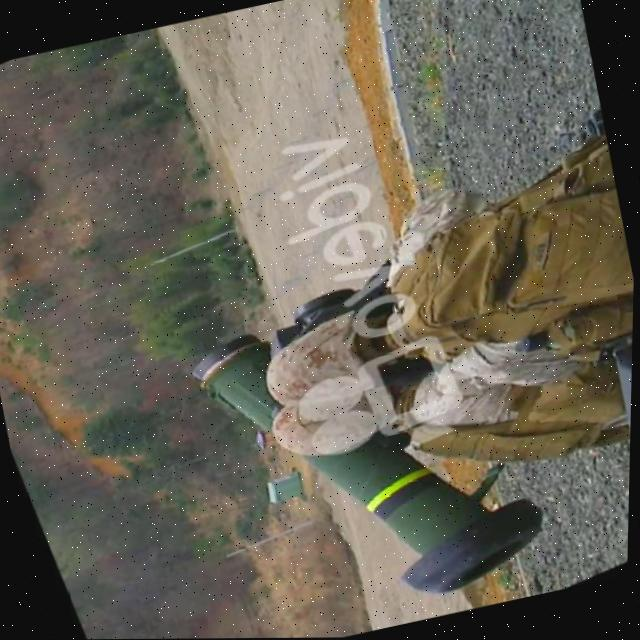rocket: (170, 247, 567, 639)
